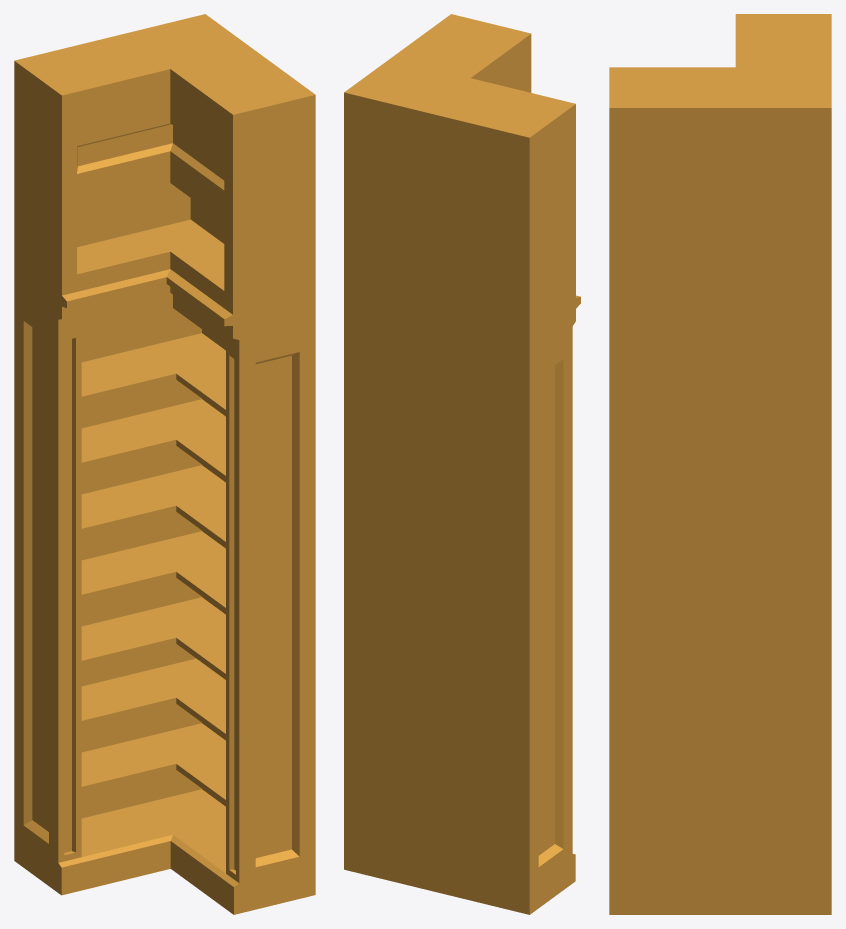
The model's file is SM_Bookcase_Tall_Modular_Corner_Inner.fbx.
The picture shows the model from 3 angles, left to right: view 1: azimuth 30°, elevation 25°; view 2: azimuth 150°, elevation 25°; view 3: azimuth 270°, elevation 25°; orthographic projection. The views are drawn at different scales.
Visible parts, largest first — view 1: bookcase-tall-modular-corner-inner; view 2: bookcase-tall-modular-corner-inner; view 3: bookcase-tall-modular-corner-inner.
Boxes of the visible parts, x1,y1,x2,y2 form: bookcase-tall-modular-corner-inner: (14, 14, 315, 914); bookcase-tall-modular-corner-inner: (344, 14, 580, 914); bookcase-tall-modular-corner-inner: (609, 14, 831, 914).
Size of the model in its own units: 1 by 4 by 1.
